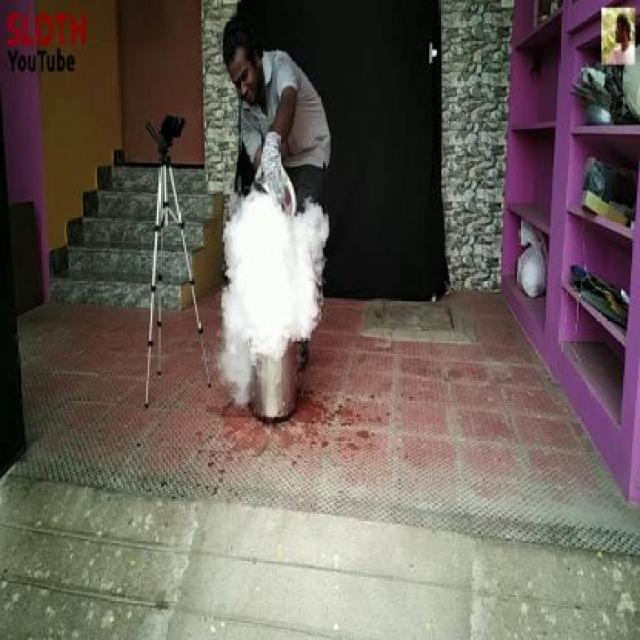smoke: (198, 176, 328, 410)
